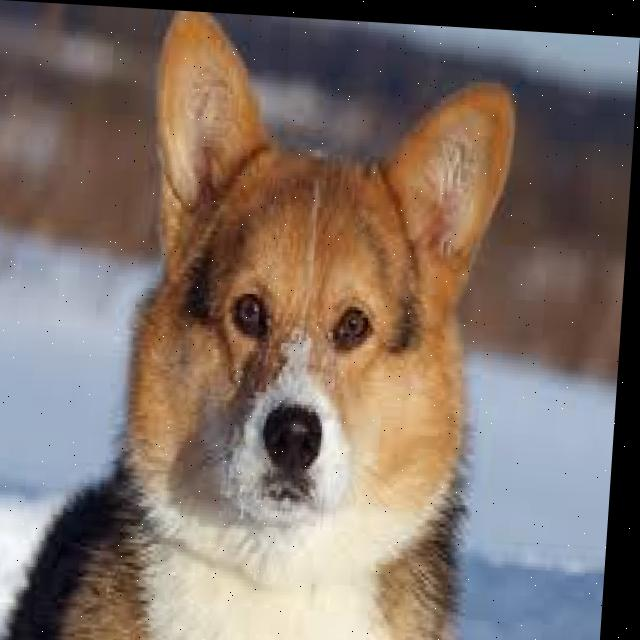CORGI: (45, 4, 528, 640)
